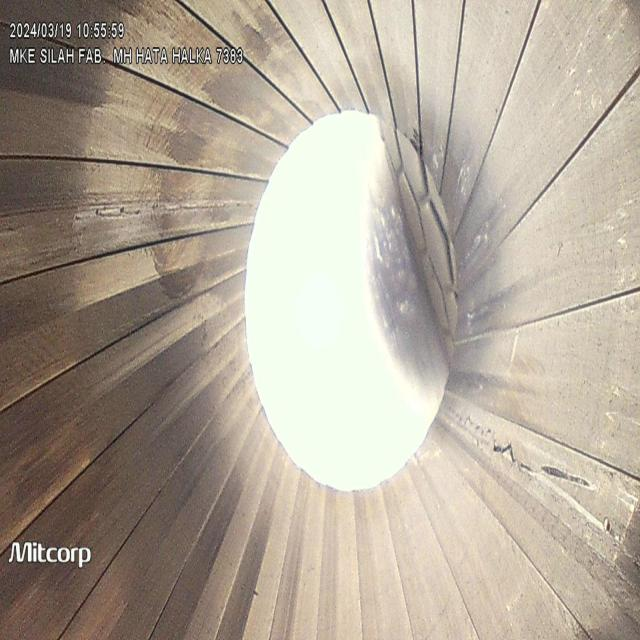hata_9.3: (467, 413, 631, 526)
